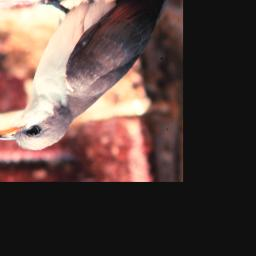Cuckoo: (0, 0, 179, 151)
